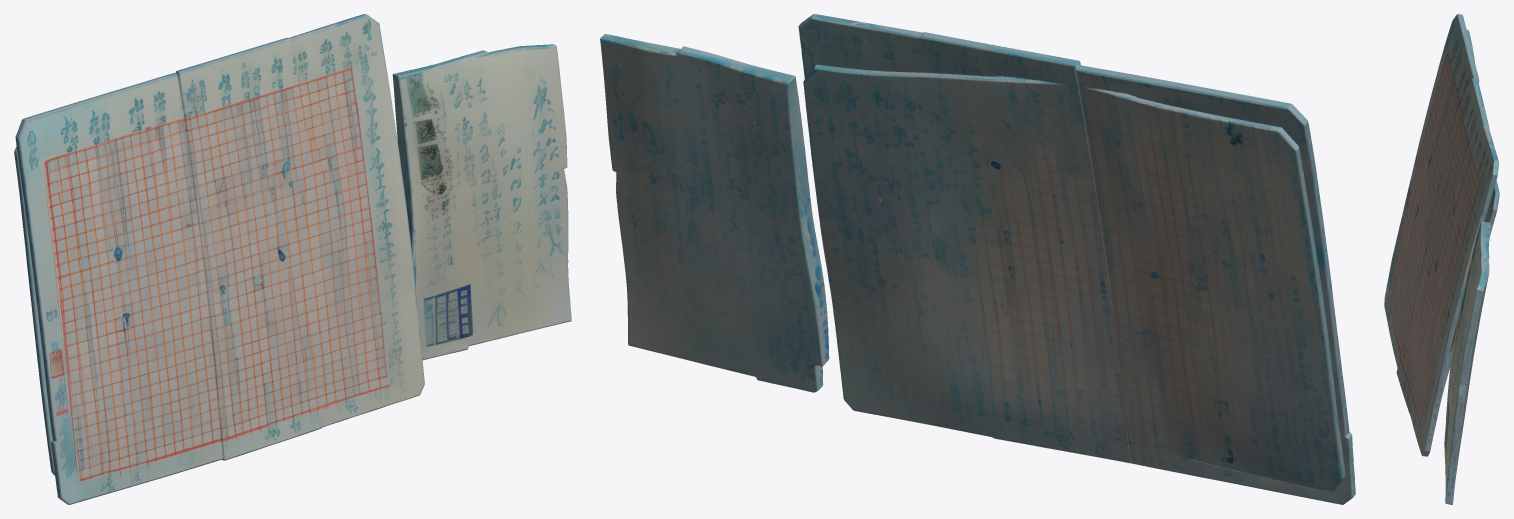
Rendered from 衡阳保卫战牺牲的第151师副师长余子武最后一封家书.glb.
The picture shows the model from 3 angles, left to right: view 1: azimuth 30°, elevation 25°; view 2: azimuth 150°, elevation 25°; view 3: azimuth 270°, elevation 25°; orthographic projection. The views are drawn at different scales.
Visible parts, largest first — view 1: texture_pbr_v128; view 2: texture_pbr_v128; view 3: texture_pbr_v128.
Part boxes in pixels (x1,y1,x2,y2): texture_pbr_v128: (14, 14, 571, 504); texture_pbr_v128: (600, 14, 1355, 504); texture_pbr_v128: (1384, 14, 1499, 504).
Size of the model in its own units: 1.03 by 0.6322 by 0.2237.
Materials: 1 (1 with a texture image).
